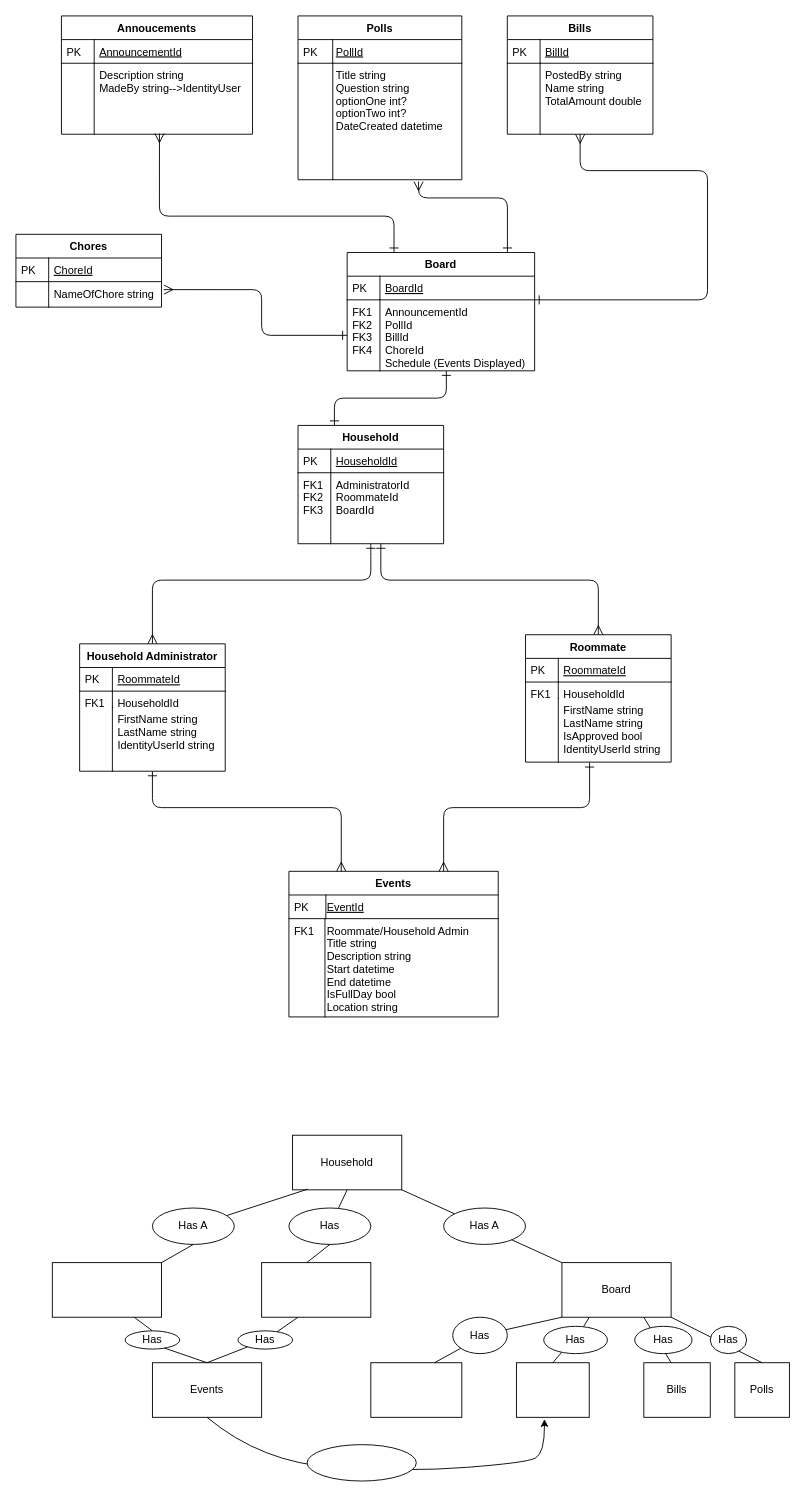
Image size: 805x1497. Some labels were removed from this diagram. Here are the shapes that lost their labels. From the top down, the centre of each, then its label:
At (x=106, y=1289): "Administrator".
At (x=316, y=1289): "Roommates".
At (x=416, y=1389): "Announcements".
At (x=552, y=1389): "Schedule".
At (x=361, y=1462): "Compile To Make".
